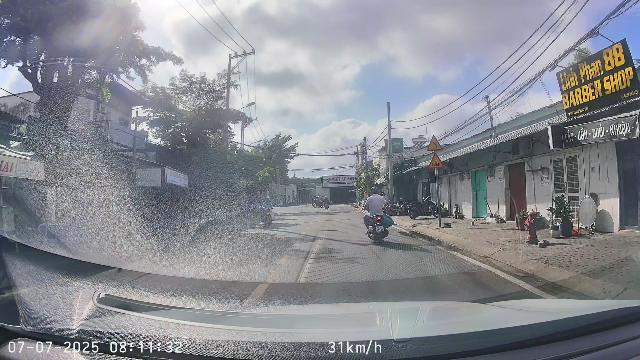201-cho-ngoat-nguy-hiem: (427, 135, 443, 151)
245-di-cham: (428, 152, 445, 168)
